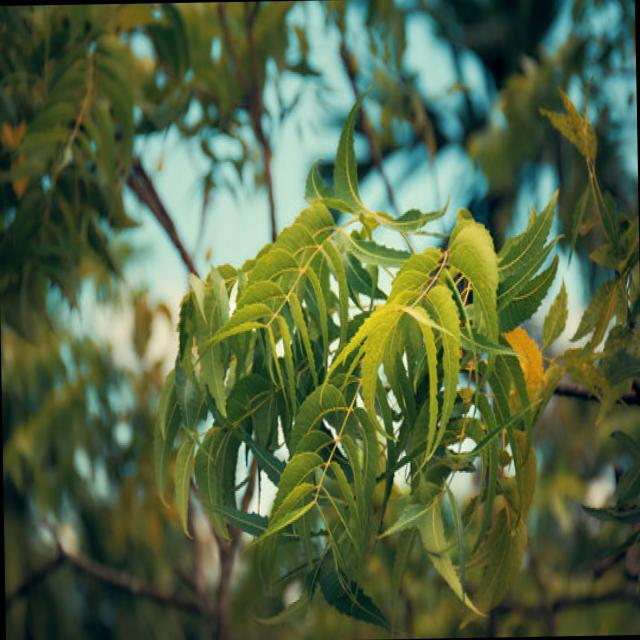Medicinal-Neem: (148, 106, 594, 631)
